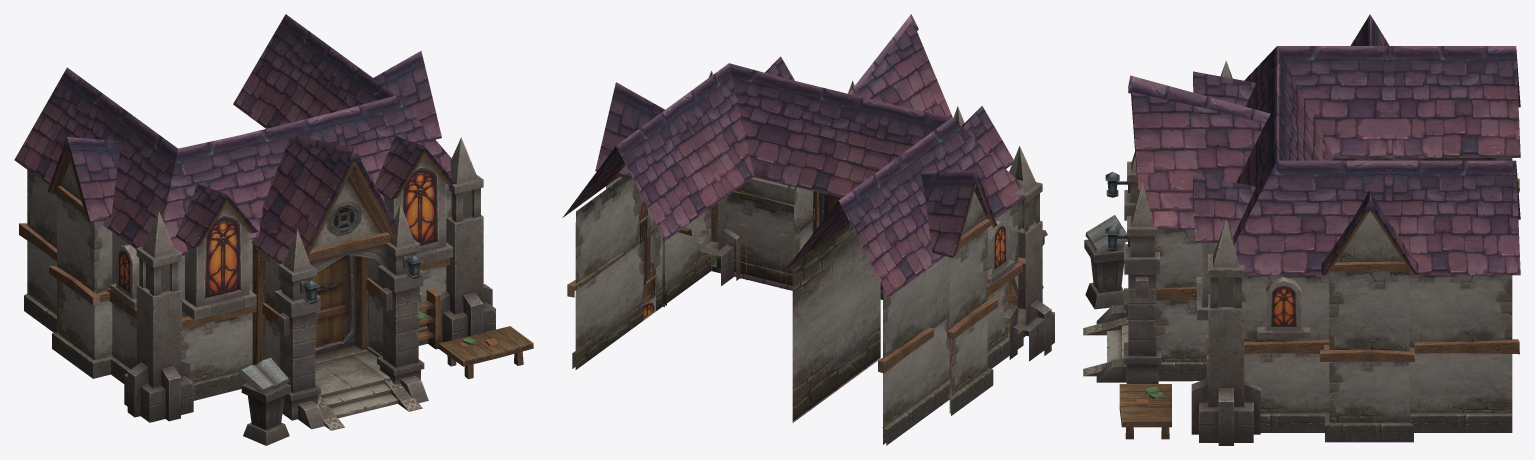
File: zhucheng2_tushuguan.FBX
The picture shows the model from 3 angles, left to right: view 1: azimuth 30°, elevation 25°; view 2: azimuth 150°, elevation 25°; view 3: azimuth 270°, elevation 25°; orthographic projection. The views are drawn at different scales.
Visible parts, largest first — view 1: zhucheng2_tushuguan; view 2: zhucheng2_tushuguan; view 3: zhucheng2_tushuguan.
Part boxes in pixels (bbox=[...]): zhucheng2_tushuguan: bbox=[14, 14, 533, 445]; zhucheng2_tushuguan: bbox=[562, 14, 1054, 445]; zhucheng2_tushuguan: bbox=[1083, 14, 1520, 445].
Size of the model in its own units: 17.03 by 16.76 by 11.7.
